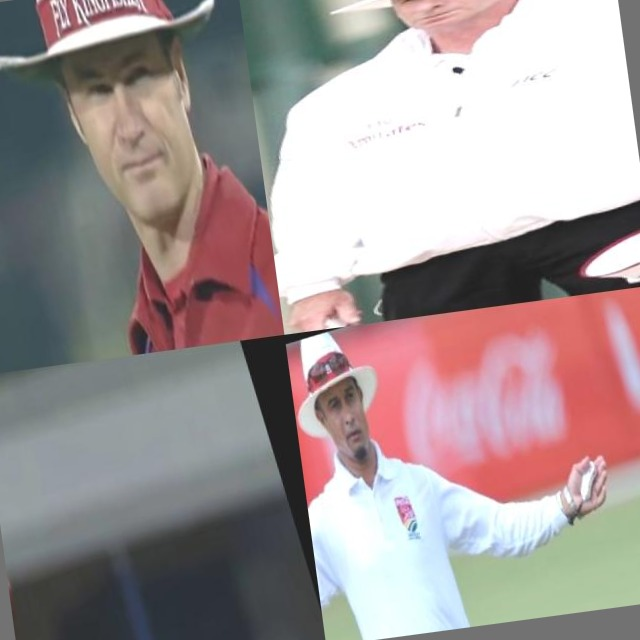No_Action: (236, 0, 640, 335), (0, 0, 285, 372)
Six: (0, 353, 188, 640)
Wide: (285, 290, 640, 640)
